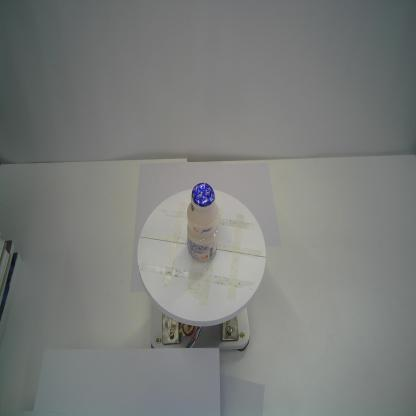Milk: (184, 179, 221, 263)
